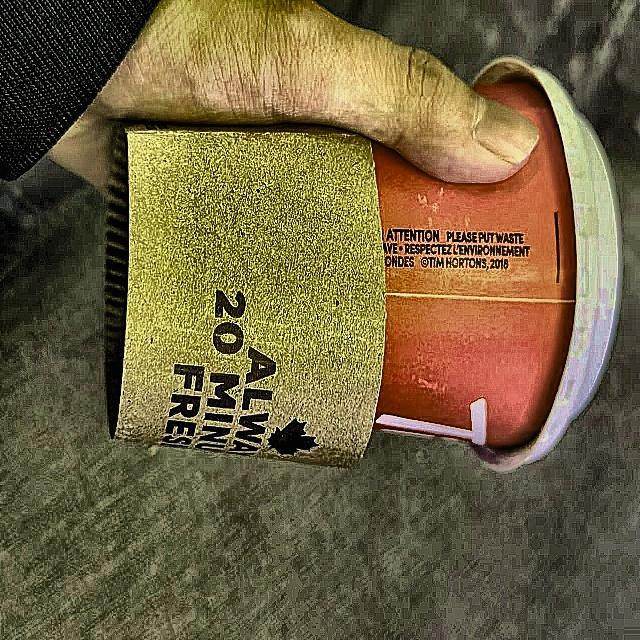timmies: (100, 53, 624, 480)
